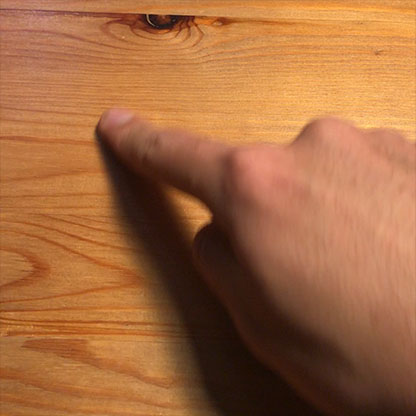fingertip: (89, 98, 143, 148)
